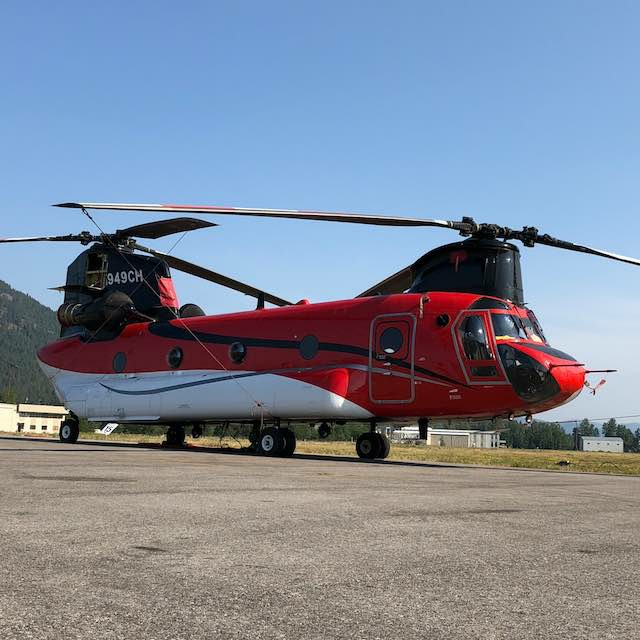chinook: (28, 175, 606, 480)
